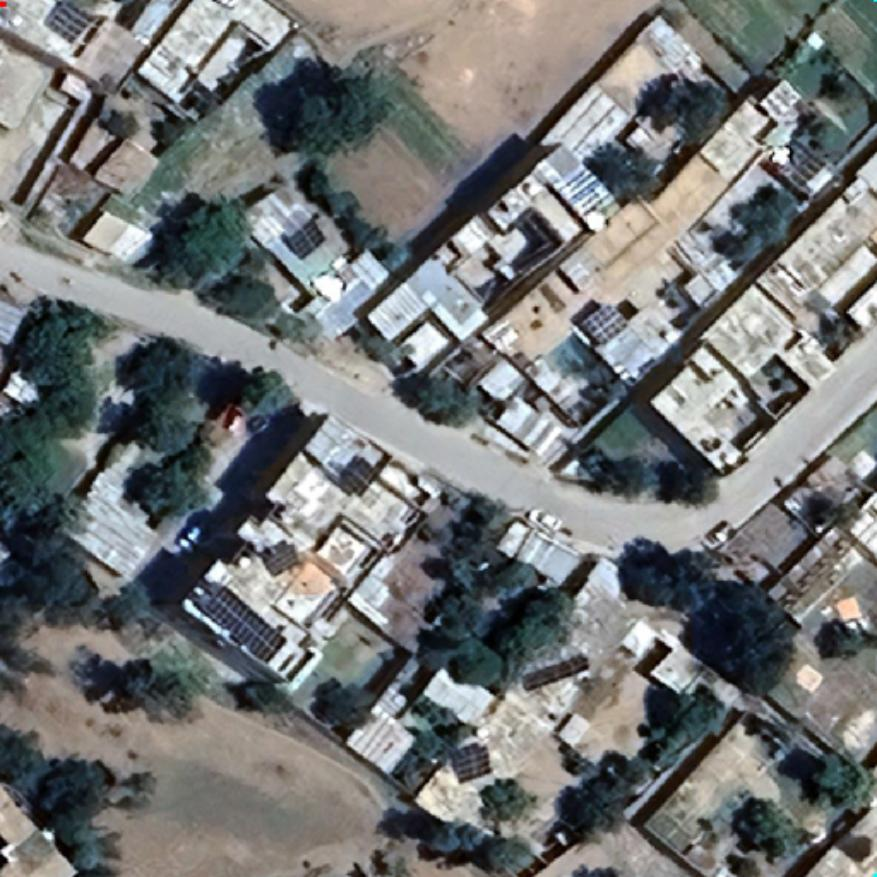Solarpanel: (188, 577, 290, 668), (518, 652, 597, 692), (45, 1, 95, 44), (584, 302, 630, 346), (284, 216, 328, 260), (450, 740, 494, 784), (338, 454, 380, 498), (258, 537, 296, 581)
